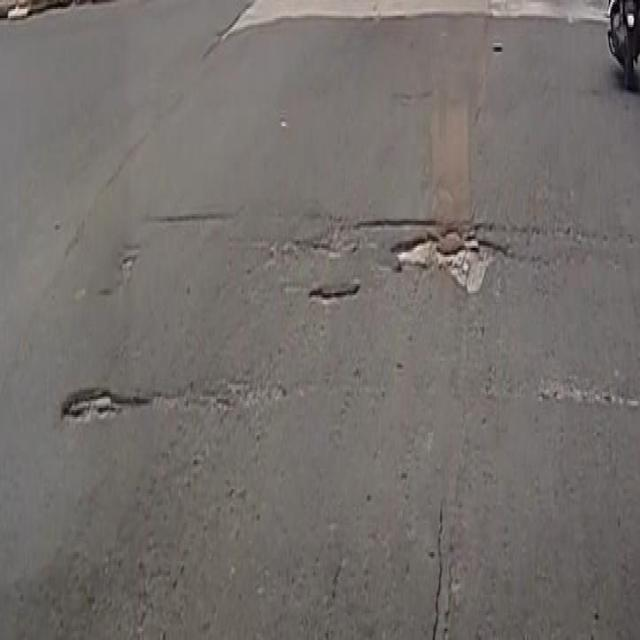Pothole: (390, 218, 516, 299), (58, 387, 152, 426)
